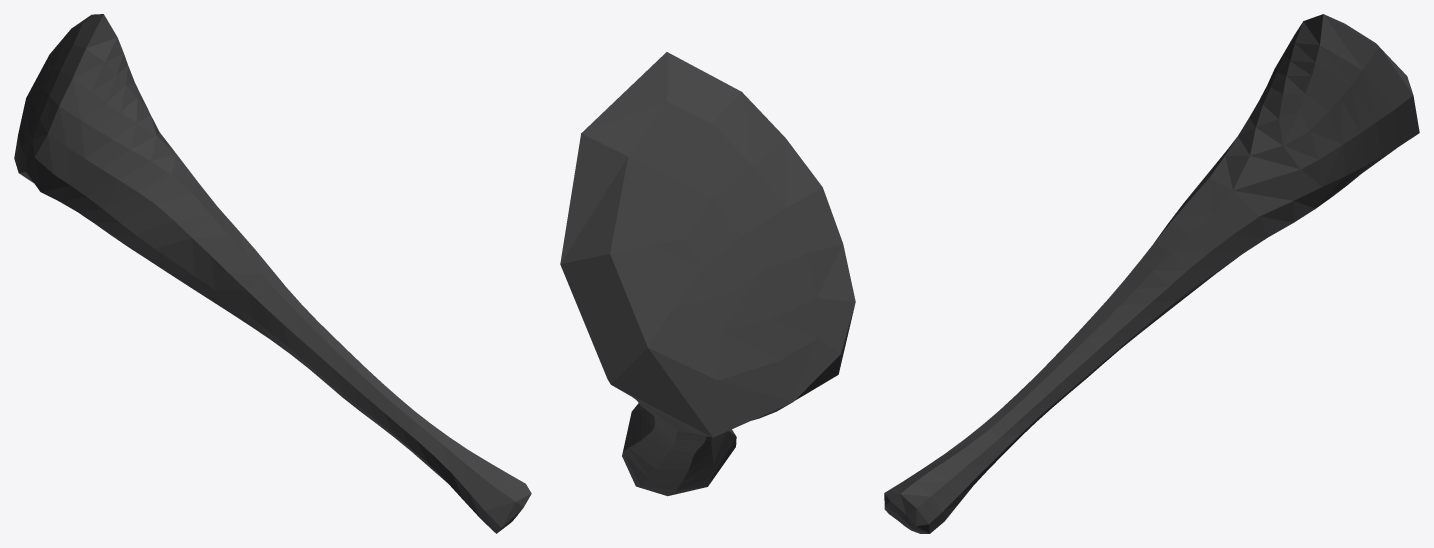
Rendered from lig_tmj.glb.
The picture shows the model from 3 angles, left to right: view 1: azimuth 30°, elevation 25°; view 2: azimuth 150°, elevation 25°; view 3: azimuth 270°, elevation 25°; orthographic projection. The views are drawn at different scales.
Parts seen in each view (by area): view 1: lig_tmj; view 2: lig_tmj; view 3: lig_tmj.
Part boxes in pixels (x1,y1,x2,y2): lig_tmj: (14, 14, 531, 533); lig_tmj: (560, 52, 855, 496); lig_tmj: (884, 14, 1419, 533).
Size of the model in its own units: 0.143 by 0.1895 by 0.2181.
Materials: 1 (1 with a texture image).
